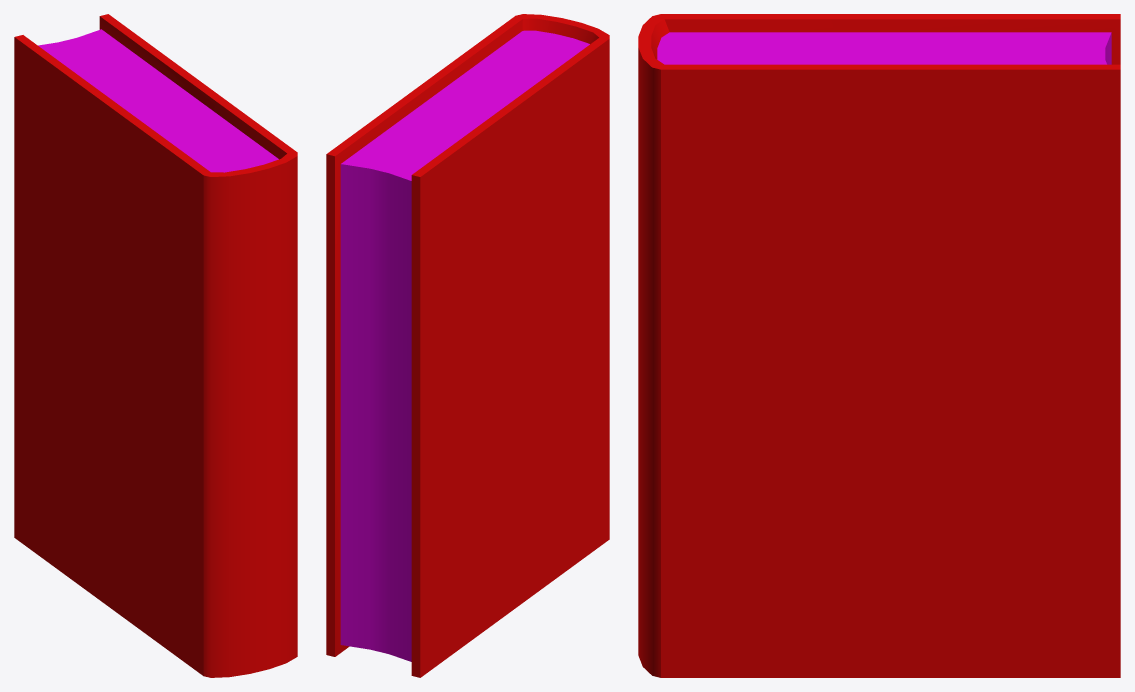
Rendered from SM_Book1.fbx.
3 views of the same model, side by side, from view 1: azimuth 30°, elevation 25°; view 2: azimuth 150°, elevation 25°; view 3: azimuth 270°, elevation 25° (orthographic). The views are drawn at different scales.
Parts seen in each view (by area): view 1: SM_Book1; view 2: SM_Book1; view 3: SM_Book1.
Boxes of the visible parts, x1,y1,x2,y2 form: SM_Book1: (14,14,297,677); SM_Book1: (326,14,609,677); SM_Book1: (638,14,1120,677).
Size of the model in its own units: 8.29 by 42.17 by 30.29.
